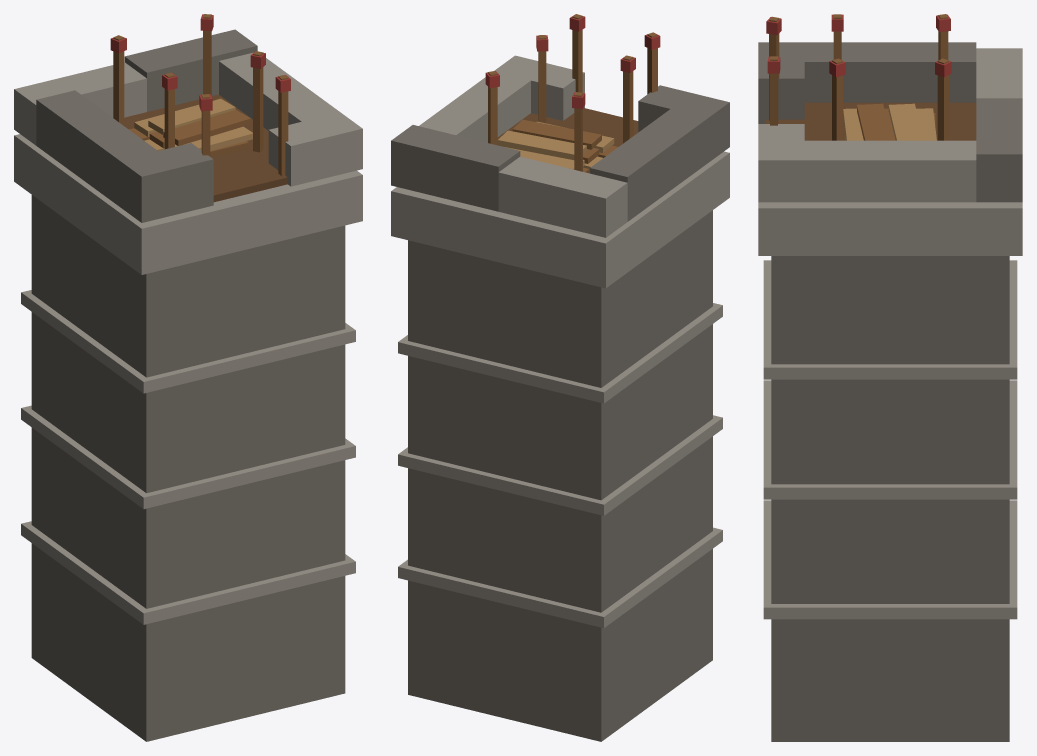
File: site_2x2_1.glb
The picture shows the model from 3 angles, left to right: view 1: azimuth 30°, elevation 25°; view 2: azimuth 150°, elevation 25°; view 3: azimuth 270°, elevation 25°; orthographic projection. The views are drawn at different scales.
Parts seen in each view (by area): view 1: site_2x2_1; view 2: site_2x2_1; view 3: site_2x2_1.
Part boxes in pixels (bbox=[...]): site_2x2_1: bbox=[14, 14, 362, 741]; site_2x2_1: bbox=[391, 14, 729, 741]; site_2x2_1: bbox=[758, 14, 1022, 741].
Bounding box in the file's own units: 2 × 5.45 × 2.
